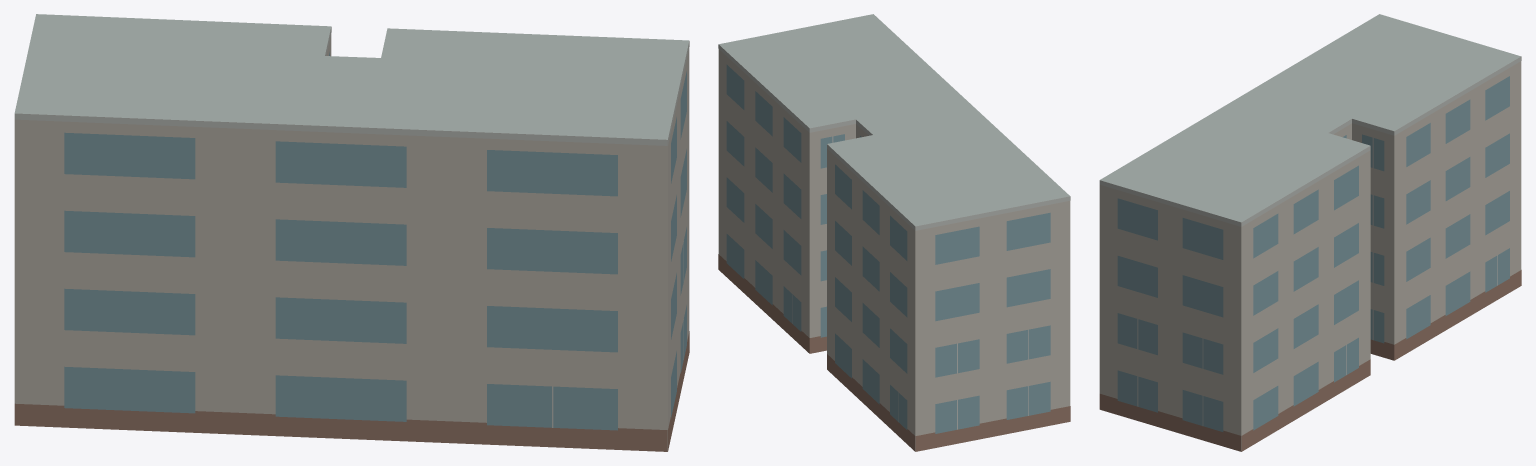
The model's file is survey-upis-32856563.glb.
3 renders of one model, left to right at view 1: azimuth 30°, elevation 25°; view 2: azimuth 150°, elevation 25°; view 3: azimuth 270°, elevation 25°, orthographic. The views are drawn at different scales.
Parts seen in each view (by area): view 1: survey-upis-32856563.tmp; view 2: survey-upis-32856563.tmp; view 3: survey-upis-32856563.tmp.
Boxes of the visible parts, left/top/right/bottom form: survey-upis-32856563.tmp: left=14, top=14, right=689, bottom=451; survey-upis-32856563.tmp: left=718, top=14, right=1070, bottom=451; survey-upis-32856563.tmp: left=1099, top=14, right=1521, bottom=451.
Size of the model in its own units: 24.34 by 12.48 by 20.81.
